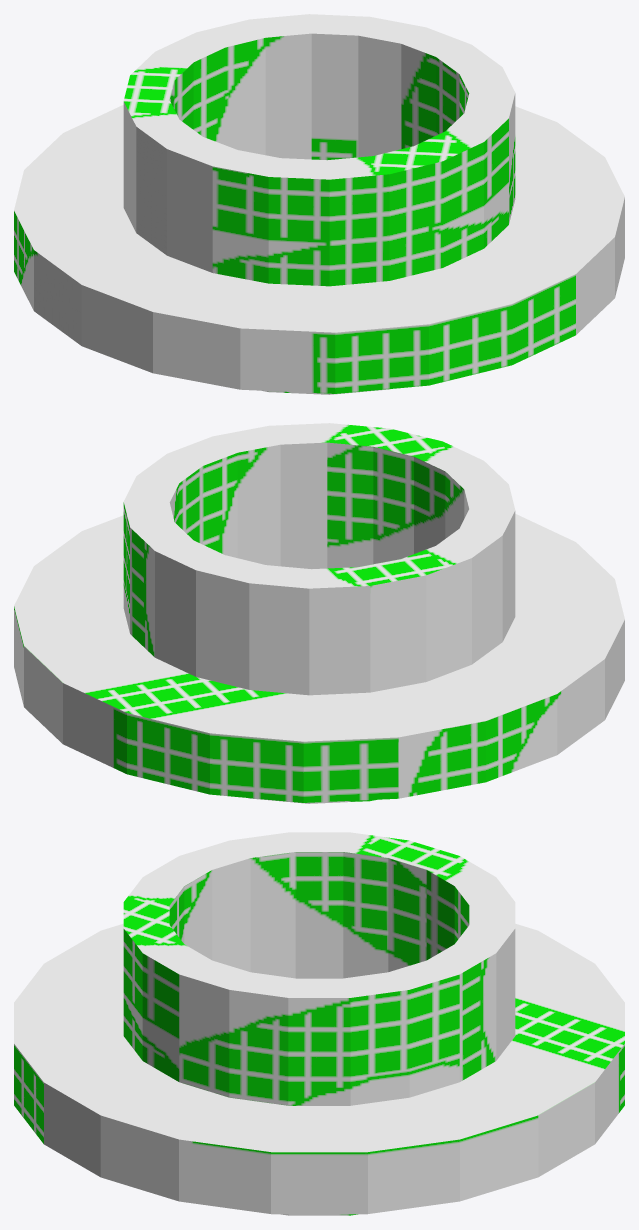
The model's file is hanoi_green_disk.dae.
3 views of the same model, one above another, from view 1: azimuth 30°, elevation 25°; view 2: azimuth 150°, elevation 25°; view 3: azimuth 270°, elevation 25° (orthographic).
Parts seen in each view (by area): view 1: green_disk; view 2: green_disk; view 3: green_disk.
Boxes of the visible parts, bbox=[...] form: green_disk: bbox=[14, 14, 624, 394]; green_disk: bbox=[14, 423, 624, 803]; green_disk: bbox=[14, 832, 624, 1215].
Bounding box in the file's own units: 0.25 × 0.25 × 0.1.
